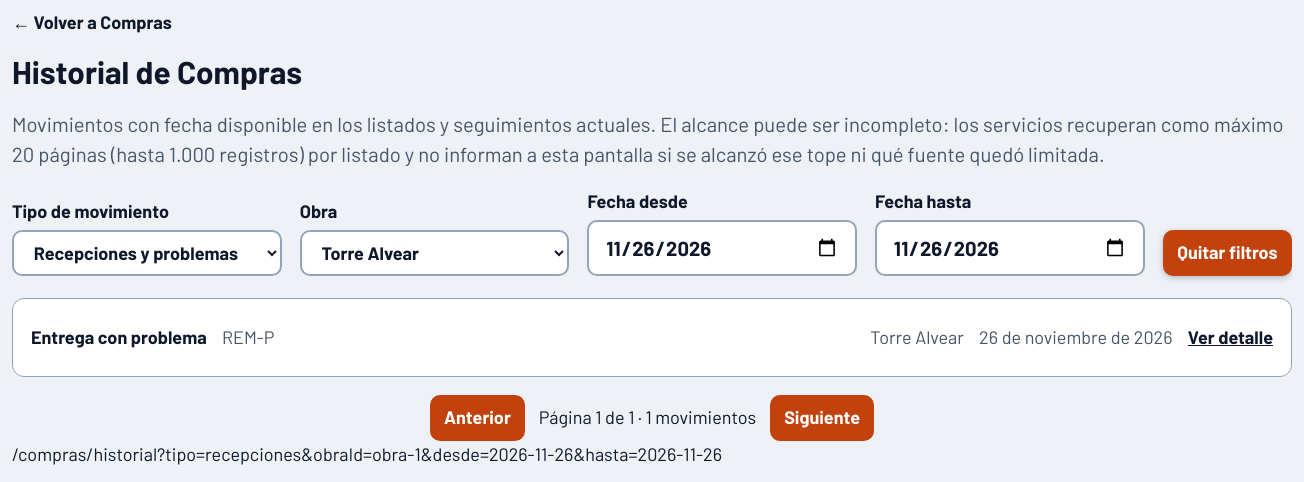
Test: HistorialComprasPage (#221) › mantiene filtros en URL, filtra por tipo, obra y rango de fechas
Check: the number of list items is 1, box top-left (12, 298), bottom-right (1292, 377)
Check: the text "Entrega con problema" is shown, box top-left (31, 324), bottom-right (207, 351)
Select "Requisiciones" in the dropdown labelled "Tipo de movimiento" at (147, 253), box top-left (12, 230), bottom-right (282, 276)
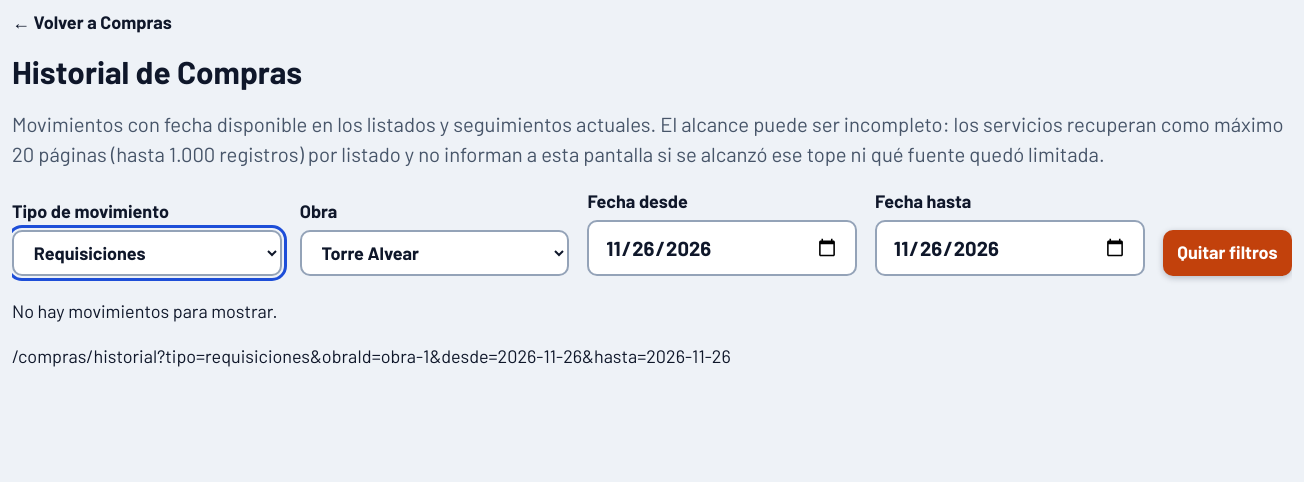
Check: the text with test id "ubicacion" does not show "pagina=", box top-left (12, 345), bottom-right (731, 367)
Check: the text with test id "ubicacion" shows "tipo=requisiciones", box top-left (12, 345), bottom-right (731, 367)
